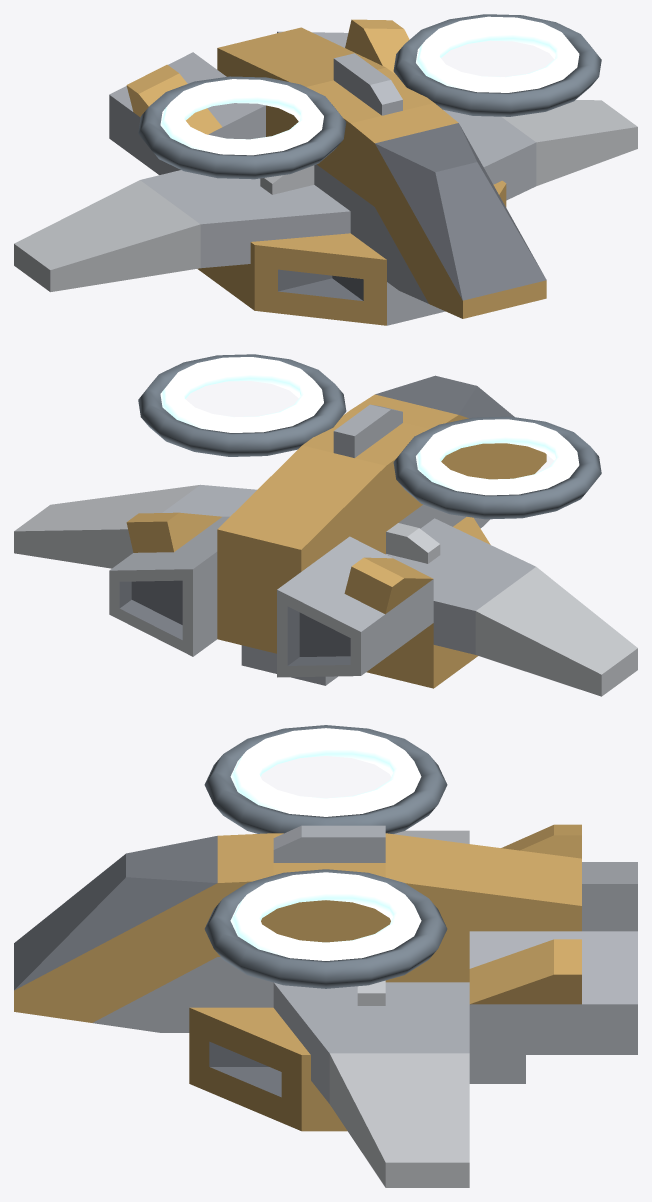
Rendered from enemy_generator.glb.
3 renders of one model, top to bottom at view 1: azimuth 30°, elevation 25°; view 2: azimuth 150°, elevation 25°; view 3: azimuth 270°, elevation 25°, orthographic. The views are drawn at different scales.
Parts seen in each view (by area): view 1: enemy_generator; view 2: enemy_generator; view 3: enemy_generator.
Part boxes in pixels (left/top/right/bottom): enemy_generator: left=14, top=14, right=637, bottom=325; enemy_generator: left=14, top=354, right=637, bottom=696; enemy_generator: left=14, top=725, right=637, bottom=1187.
Size of the model in its own units: 1.84 by 0.5918 by 1.46.
